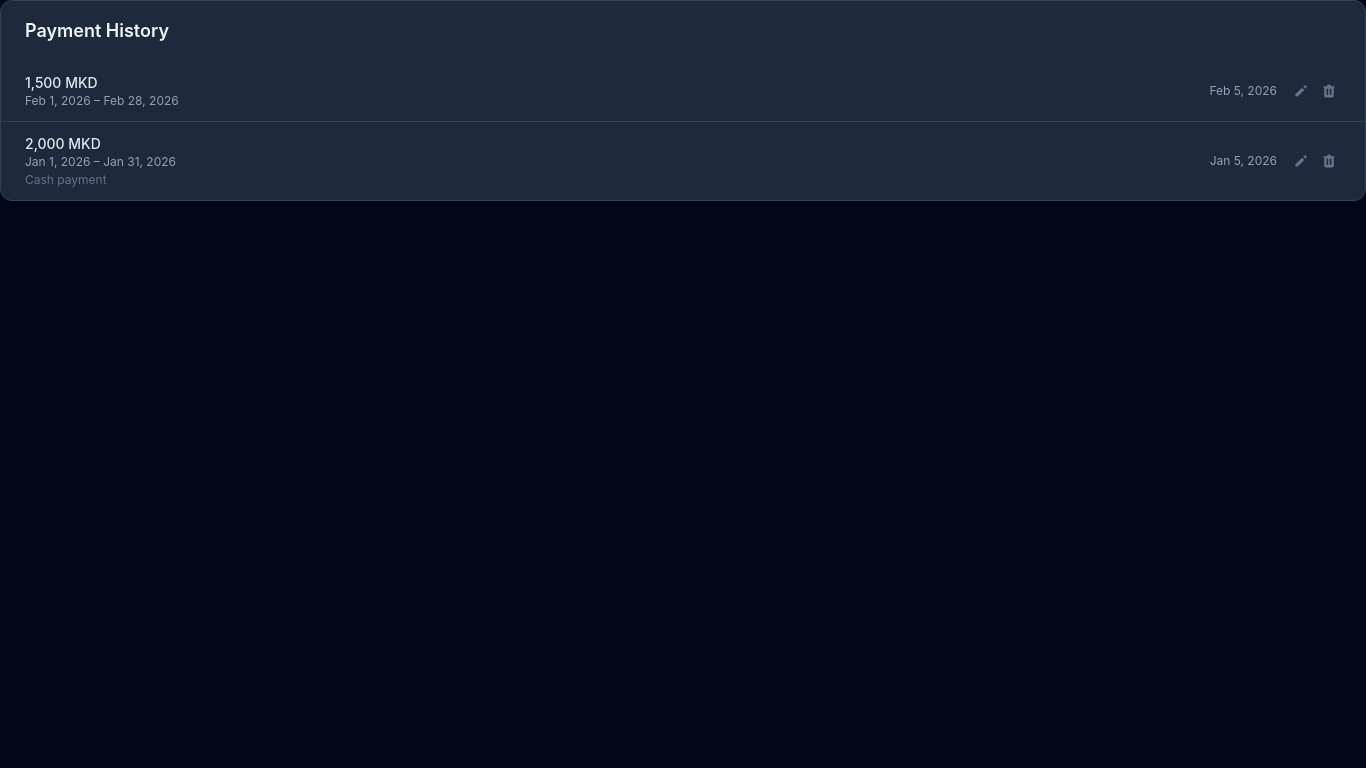
Test case: PaymentHistory › delete flow › closes on Cancel
Click the button named "Delete payment for 1,500 MKD" at (1329, 91), box [1317,79,1341,103]
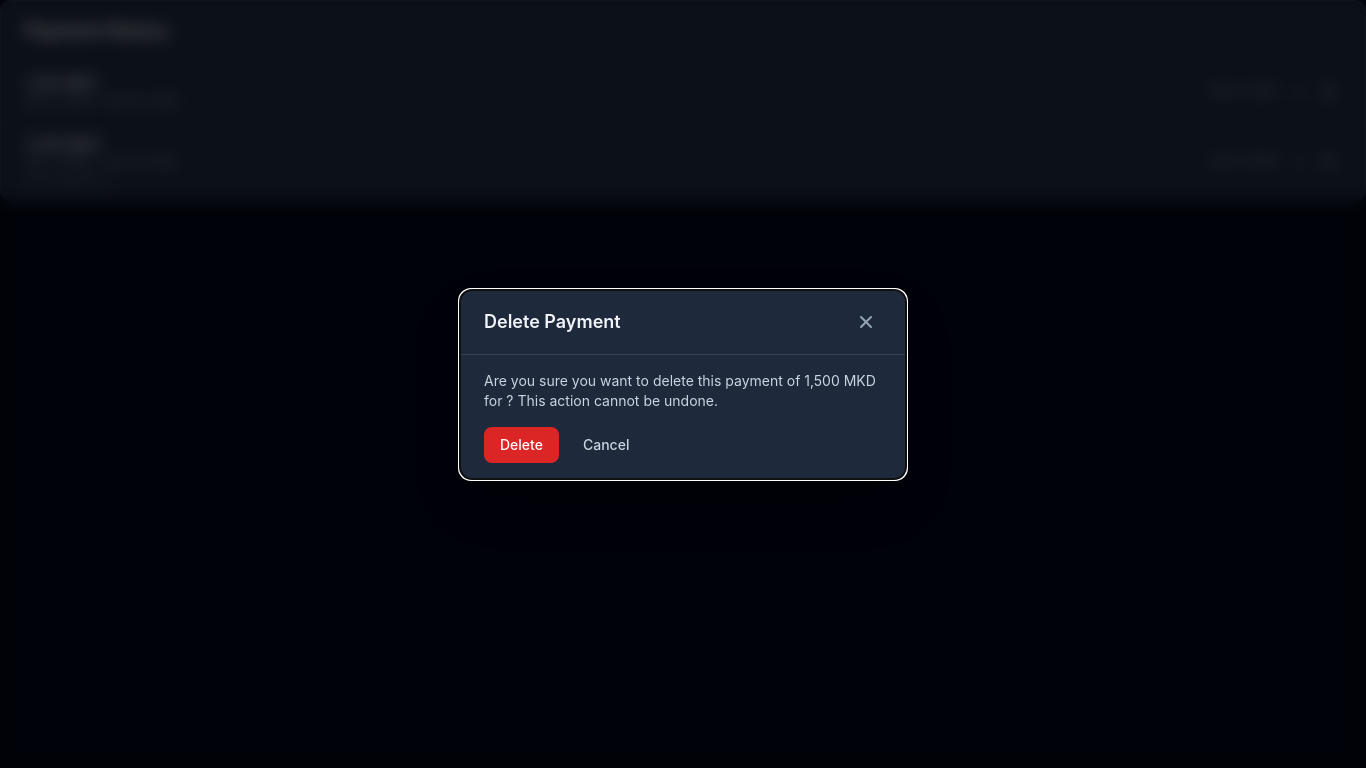
Expected: the heading "Delete Payment" is shown, [484,308,621,336]
# Click Cancel
Click the button "Cancel" at (606, 444), box [567,426,645,462]
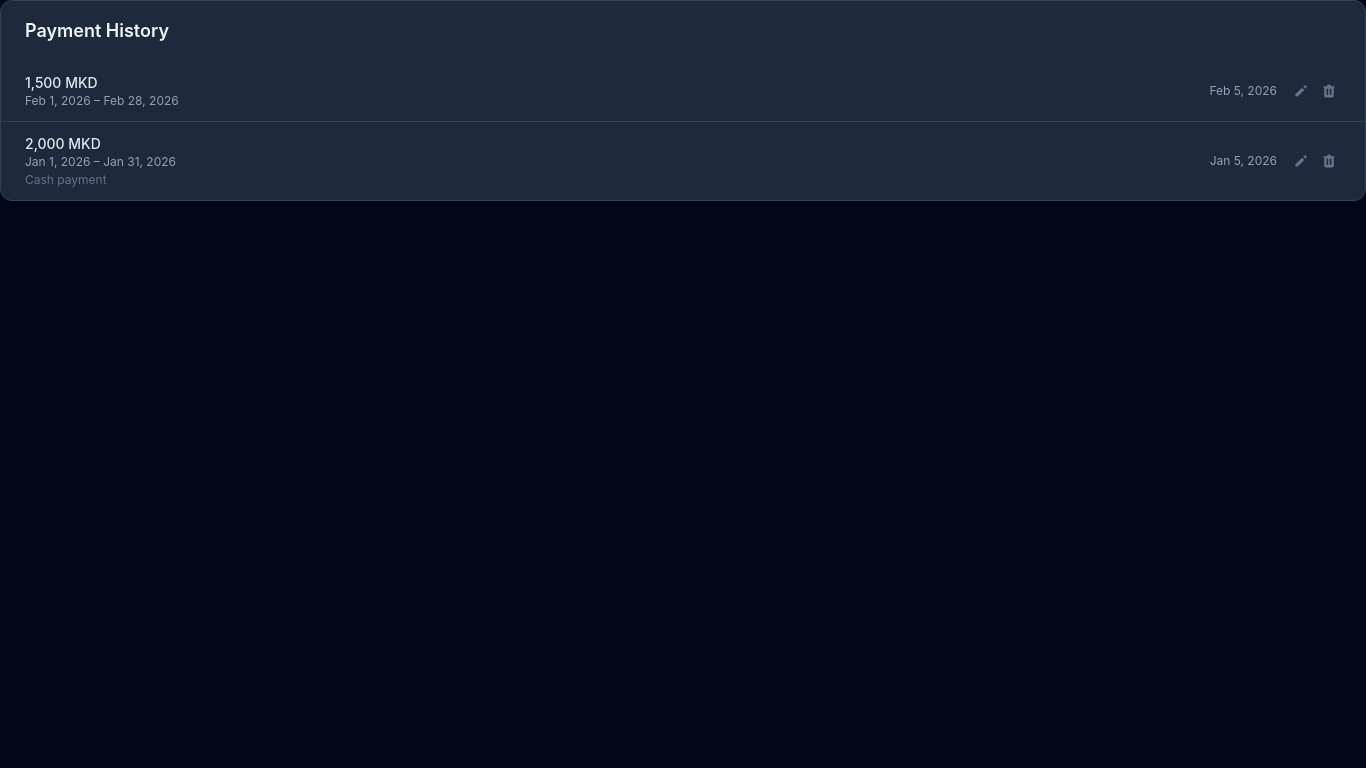
Expected: the heading "Delete Payment" is gone
